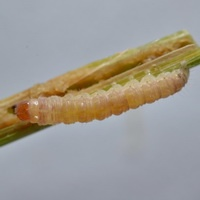insect: (0, 30, 199, 144)
